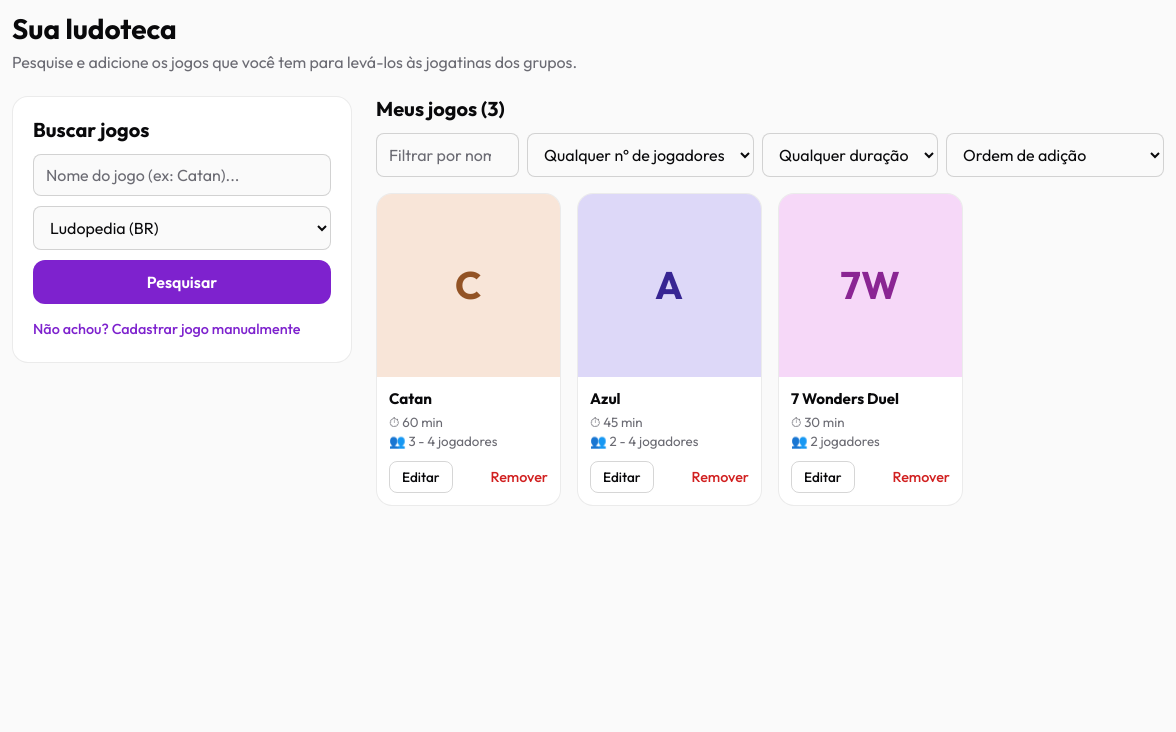
Scenario: Ludoteca › filtra por número de jogadores e por duração, e mostra "N de total"
Expected: the heading "Catan" is shown, [389, 389, 432, 408]
Step 1. Select "2 jogadores" in the dropdown named "Jogadores" → (640, 155), box [527, 133, 754, 177]
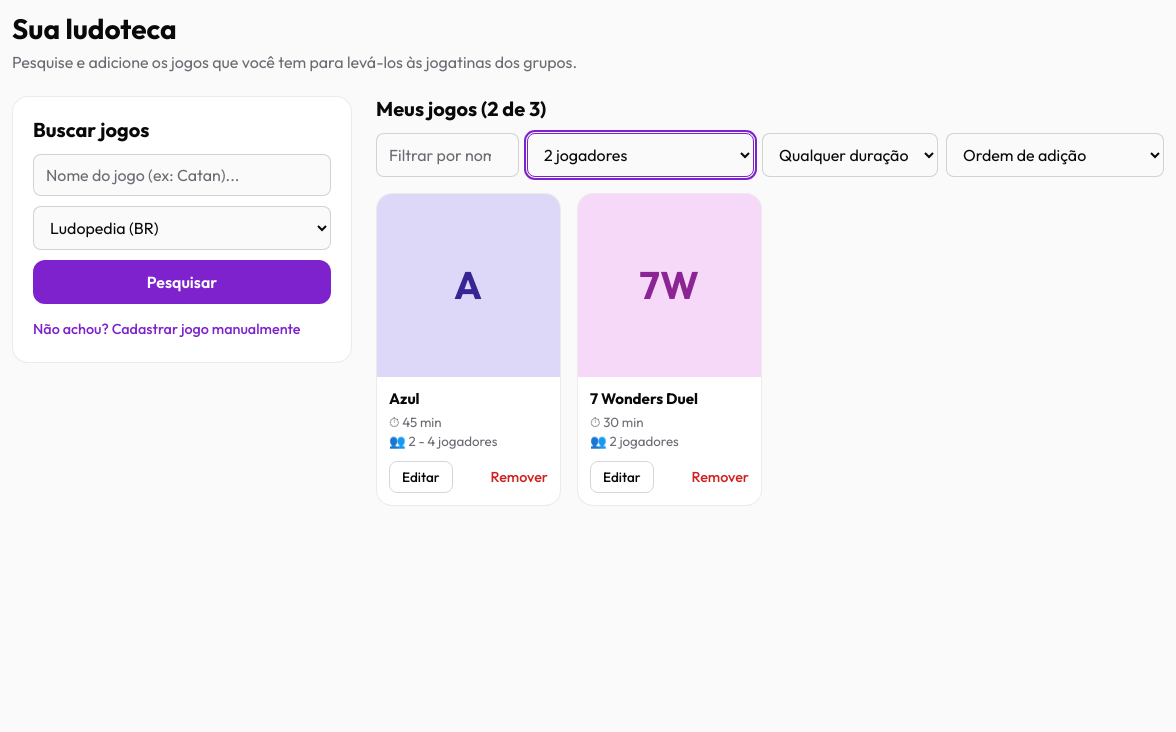
Now the heading "Meus jogos (2 de 3)" is shown, box [376, 96, 546, 121]
Step 2. Select "Até 30 min" in the dropdown named "Duração" → (850, 155), box [762, 133, 938, 177]
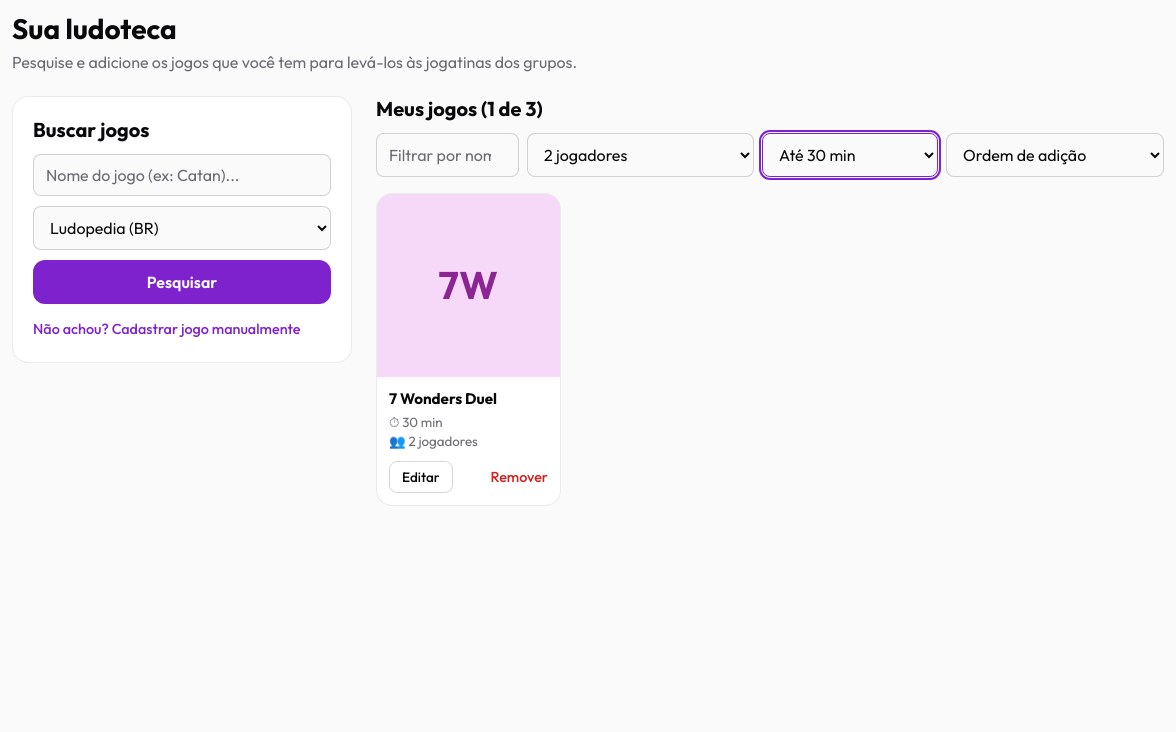
Expected: the heading "7 Wonders Duel" is shown, [389, 389, 497, 408]
Now the heading "Azul" is gone
